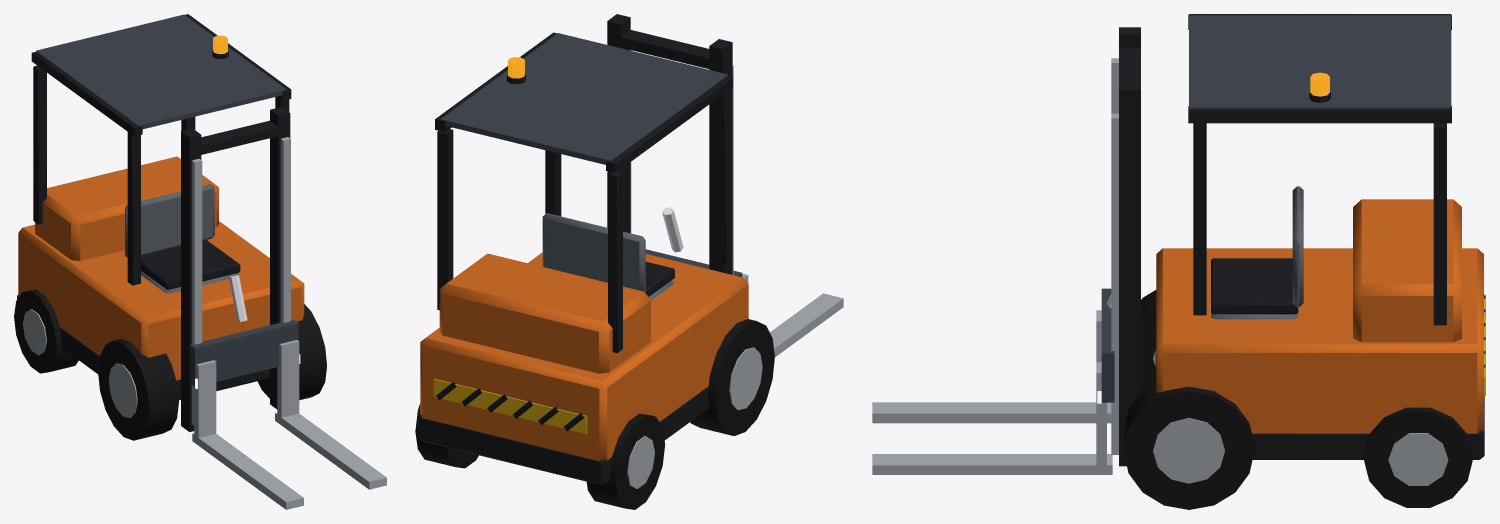
Rendered from loader_platform_forklift.glb.
3 renders of one model, left to right at view 1: azimuth 30°, elevation 25°; view 2: azimuth 150°, elevation 25°; view 3: azimuth 270°, elevation 25°, orthographic. The views are drawn at different scales.
Visible parts, largest first — view 1: loader_platform_forklift; view 2: loader_platform_forklift; view 3: loader_platform_forklift.
Part boxes in pixels (bbox=[...]): loader_platform_forklift: bbox=[14, 14, 386, 509]; loader_platform_forklift: bbox=[415, 14, 843, 509]; loader_platform_forklift: bbox=[872, 14, 1485, 509].
Bounding box in the file's own units: 1.21 × 2.1 × 2.81.
